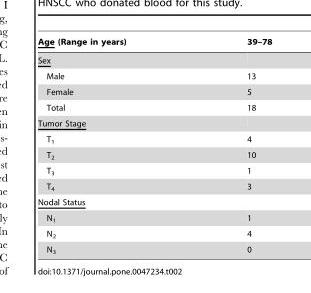table: (37, 37, 271, 254)
table column: (37, 37, 186, 254), (186, 37, 271, 254)
table column header: (37, 37, 271, 50)
table projected row header: (37, 50, 271, 68), (37, 115, 271, 131), (37, 194, 271, 209)
table row: (37, 50, 271, 68), (37, 209, 271, 226), (37, 83, 271, 99), (37, 99, 271, 115), (37, 115, 271, 131), (37, 131, 271, 147), (37, 147, 271, 163), (37, 178, 271, 194), (37, 68, 271, 83), (37, 163, 271, 178), (37, 194, 271, 209), (37, 226, 271, 241), (37, 37, 271, 50), (37, 241, 271, 254)
